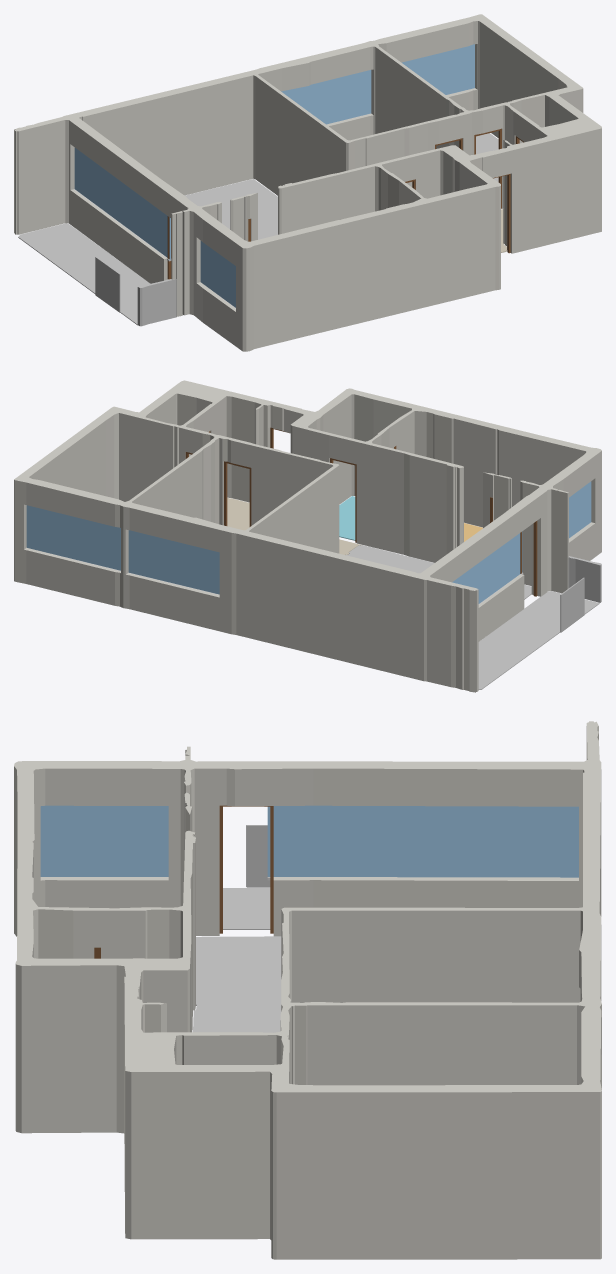
3 views of the same model, one above another, from view 1: azimuth 30°, elevation 25°; view 2: azimuth 150°, elevation 25°; view 3: azimuth 270°, elevation 25° (orthographic). The views are drawn at different scales.
Visible parts, largest first — view 1: walls, floor_0_Outdoor, window_10, window_8, railings, window_9, floor_5_Living_Room, window_11; view 2: walls, floor_0_Outdoor, window_9, window_8, window_10, railings, floor_5_Living_Room, window_11, floor_10_Entry, floor_8_Bath, door_0, door_2; view 3: walls, window_10, window_11, floor_5_Living_Room, floor_0_Outdoor, railings, door_2.
Part boxes in pixels (x1=…): walls: x1=14, y1=14, x2=601, y2=351; floor_0_Outdoor: x1=18, y1=223, x2=150, y2=325; window_10: x1=74, y1=147, x2=170, y2=259; window_8: x1=281, y1=70, x2=371, y2=124; railings: x1=95, y1=256, x2=176, y2=326; window_9: x1=402, y1=44, x2=474, y2=94; floor_5_Living_Room: x1=185, y1=179, x2=277, y2=239; window_11: x1=200, y1=241, x2=235, y2=307; walls: x1=14, y1=380, x2=601, y2=692; floor_0_Outdoor: x1=478, y1=591, x2=599, y2=689; window_9: x1=26, y1=505, x2=120, y2=570; window_8: x1=128, y1=530, x2=219, y2=594; window_10: x1=452, y1=531, x2=522, y2=603; railings: x1=560, y1=556, x2=601, y2=632; floor_5_Living_Room: x1=346, y1=545, x2=531, y2=599; window_11: x1=569, y1=481, x2=591, y2=538; floor_10_Entry: x1=227, y1=498, x2=362, y2=554; floor_8_Bath: x1=339, y1=496, x2=355, y2=540; door_0: x1=224, y1=461, x2=251, y2=526; door_2: x1=520, y1=521, x2=537, y2=596; walls: x1=14, y1=721, x2=601, y2=1259; window_10: x1=267, y1=805, x2=578, y2=877; window_11: x1=40, y1=805, x2=168, y2=876; floor_5_Living_Room: x1=193, y1=936, x2=281, y2=1032; floor_0_Outdoor: x1=223, y1=888, x2=270, y2=929; railings: x1=246, y1=825, x2=270, y2=887; door_2: x1=219, y1=805, x2=273, y2=933.
Bounding box in the file's own units: 12.91 × 2.72 × 8.6.
